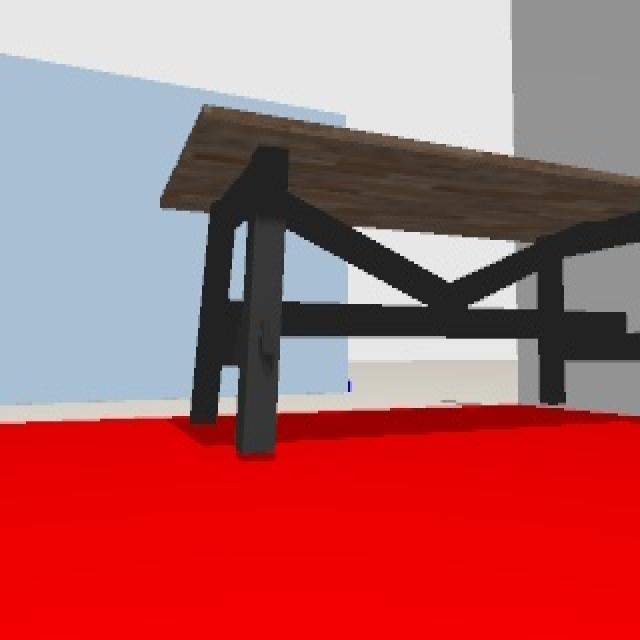dining: (164, 105, 640, 456)
